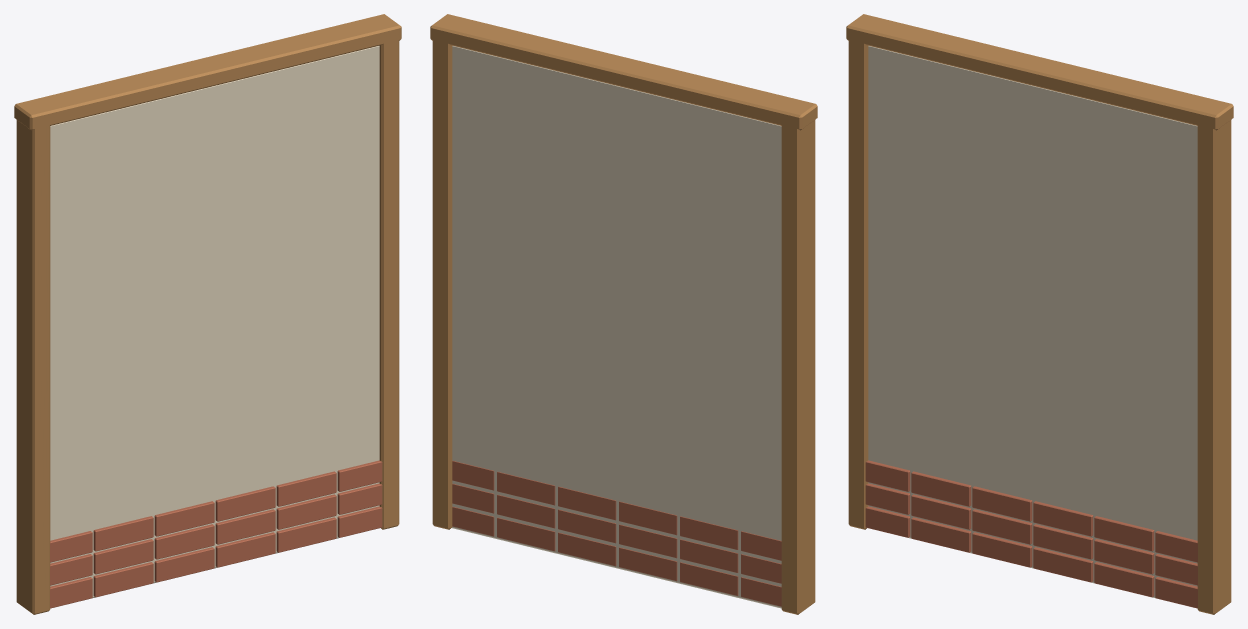
File: wall-plain.glb
3 renders of one model, left to right at view 1: azimuth 30°, elevation 25°; view 2: azimuth 150°, elevation 25°; view 3: azimuth 330°, elevation 25°, orthographic.
Visible parts, largest first — view 1: wall_plain; view 2: wall_plain; view 3: wall_plain.
Part boxes in pixels (bbox=[...]): wall_plain: bbox=[14, 14, 401, 614]; wall_plain: bbox=[430, 14, 817, 614]; wall_plain: bbox=[846, 14, 1233, 614].
Bounding box in the file's own units: 3.05 × 3.92 × 0.25.
